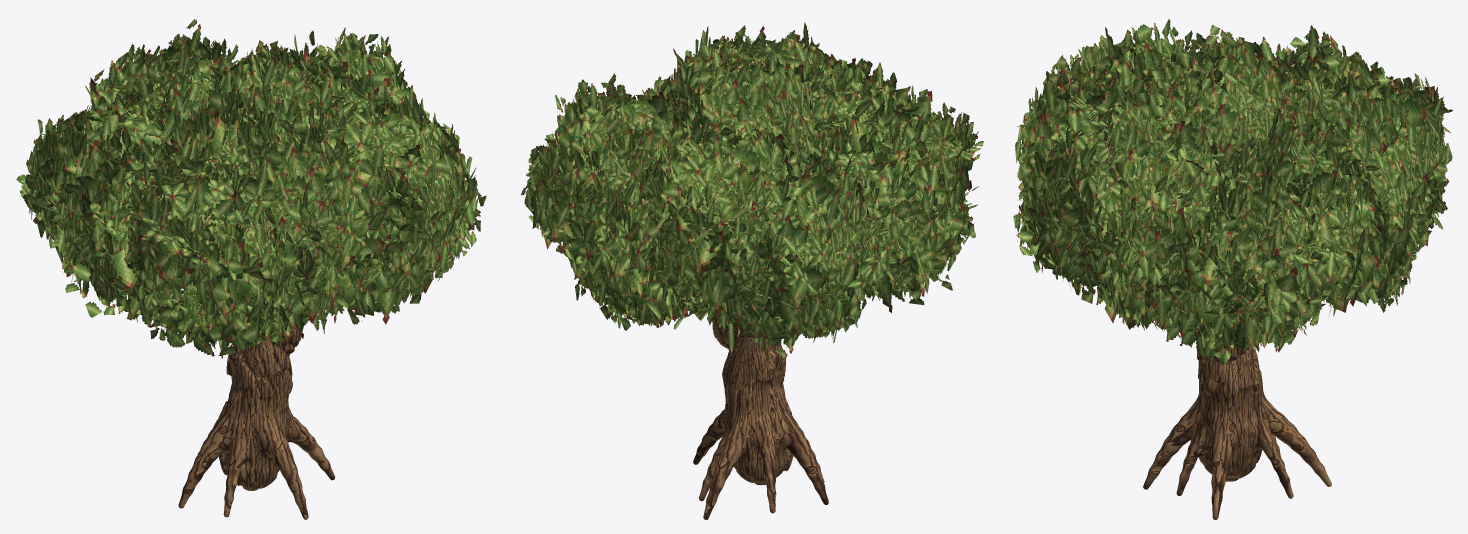
File: macieira_reta_LOD_A.glb
3 renders of one model, left to right at view 1: azimuth 30°, elevation 25°; view 2: azimuth 150°, elevation 25°; view 3: azimuth 270°, elevation 25°, orthographic. The views are drawn at different scales.
Parts seen in each view (by area): view 1: macieira_inclinada; view 2: macieira_inclinada; view 3: macieira_inclinada.
Part boxes in pixels (x1=…): macieira_inclinada: x1=16, y1=19, x2=486, y2=519; macieira_inclinada: x1=521, y1=22, x2=983, y2=519; macieira_inclinada: x1=1013, y1=19, x2=1452, y2=519.
Bounding box in the file's own units: 6.1 × 6.57 × 5.72.
Materials: 2 (2 with a texture image).
